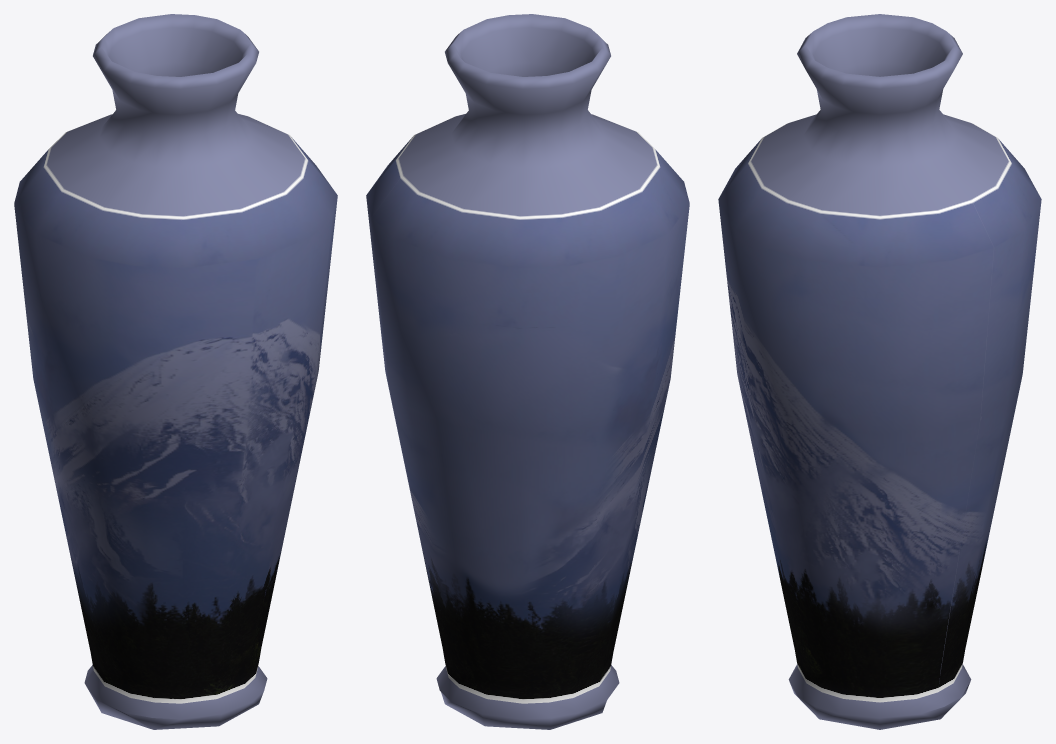
File: JVase_5_2.fbx
The picture shows the model from 3 angles, left to right: view 1: azimuth 30°, elevation 25°; view 2: azimuth 150°, elevation 25°; view 3: azimuth 270°, elevation 25°; orthographic projection.
Parts seen in each view (by area): view 1: JVase_5_2; view 2: JVase_5_2; view 3: JVase_5_2.
Boxes of the visible parts, x1,y1,x2,y2 form: JVase_5_2: (14,14,337,729); JVase_5_2: (366,14,689,729); JVase_5_2: (718,14,1041,729).
Bounding box in the file's own units: 26.88 × 59.49 × 26.88.
